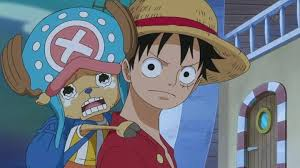chopper: (1, 1, 136, 120)
luffy: (132, 1, 251, 110)
